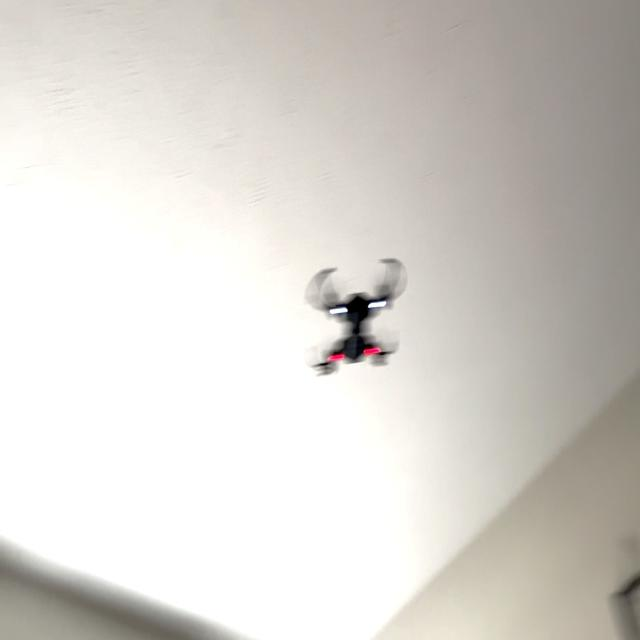drone: (285, 239, 415, 394)
